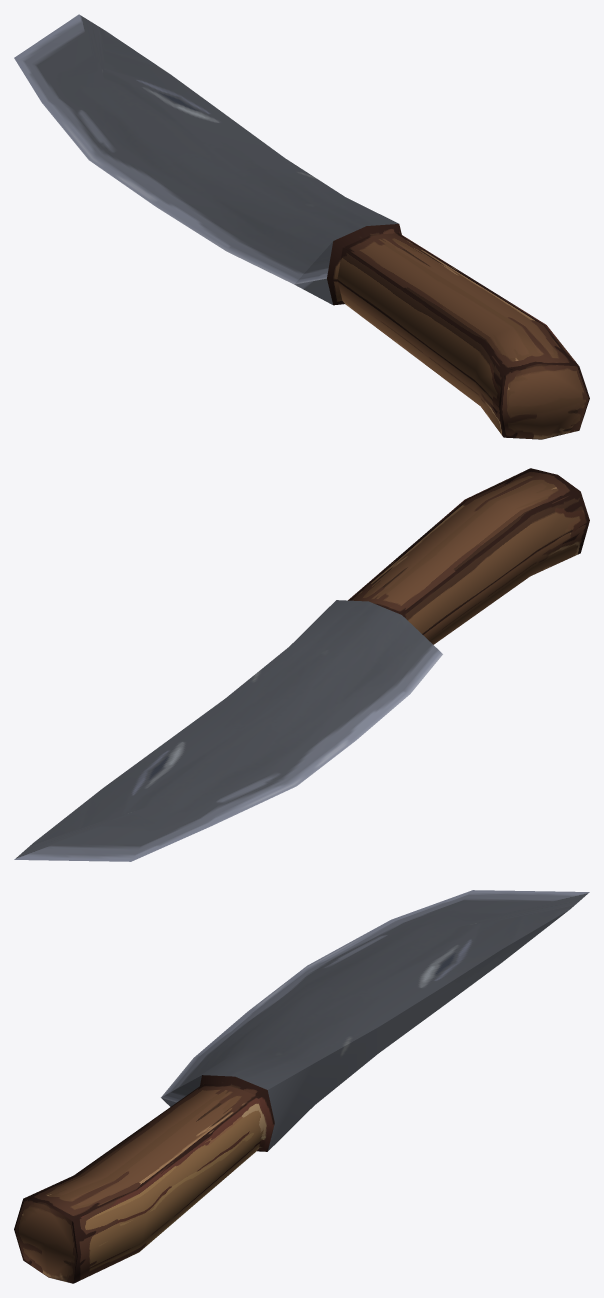
File: SM_PROP_knife_dungeon_02.fbx
3 views of the same model, one above another, from view 1: azimuth 30°, elevation 25°; view 2: azimuth 150°, elevation 25°; view 3: azimuth 330°, elevation 25° (orthographic). The views are drawn at different scales.
Parts seen in each view (by area): view 1: SM_PROP_knife_dungeon_02; view 2: SM_PROP_knife_dungeon_02; view 3: SM_PROP_knife_dungeon_02.
Boxes of the visible parts, bbox=[...] form: SM_PROP_knife_dungeon_02: bbox=[14, 14, 589, 439]; SM_PROP_knife_dungeon_02: bbox=[14, 468, 589, 861]; SM_PROP_knife_dungeon_02: bbox=[14, 890, 589, 1283].
Bounding box in the file's own units: 9.45 × 4.61 × 57.29.
